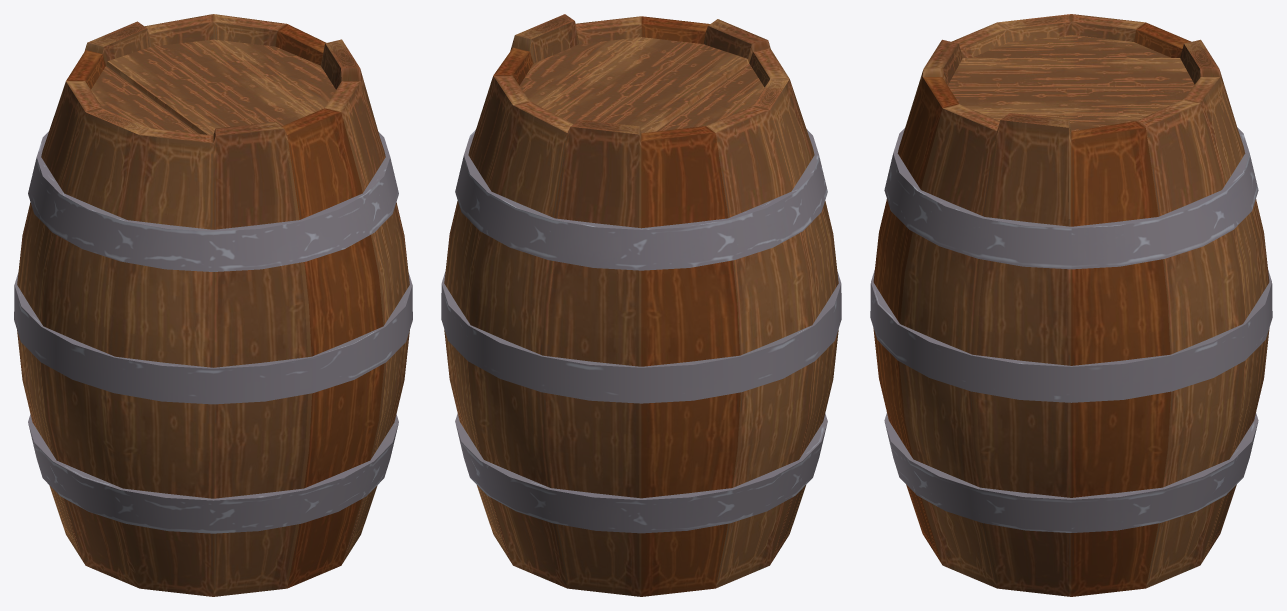
Rendered from barrel.gltf.
The picture shows the model from 3 angles, left to right: view 1: azimuth 30°, elevation 25°; view 2: azimuth 150°, elevation 25°; view 3: azimuth 270°, elevation 25°; orthographic projection.
Visible parts, largest first — view 1: Barrel; view 2: Barrel; view 3: Barrel.
Part boxes in pixels (left/top/right/bottom): Barrel: left=14, top=14, right=412, bottom=596; Barrel: left=441, top=14, right=841, bottom=596; Barrel: left=870, top=14, right=1272, bottom=596.
Size of the model in its own units: 0.698 by 0.898 by 0.698.
2 materials, 2 textured.
